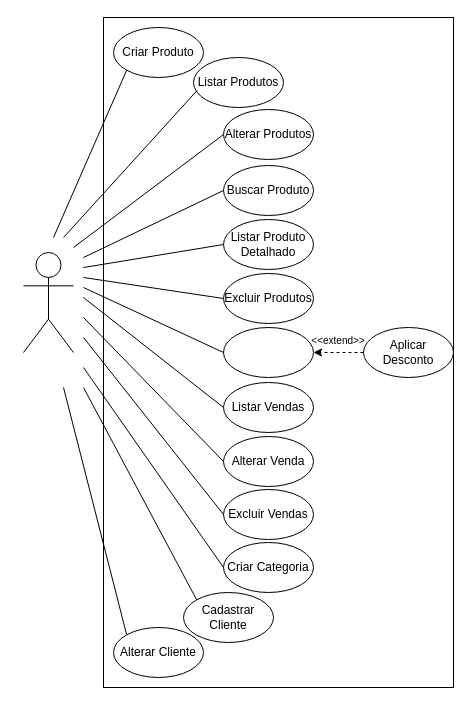
Image size: 471x705. Some labels were removed from this diagram. The shapes that lost their labels are listed below. From the top down, each one's centre as x and y in pixels, then its label:
At (48,302): "Funcionário".
At (268,352): "Registrar Venda".
